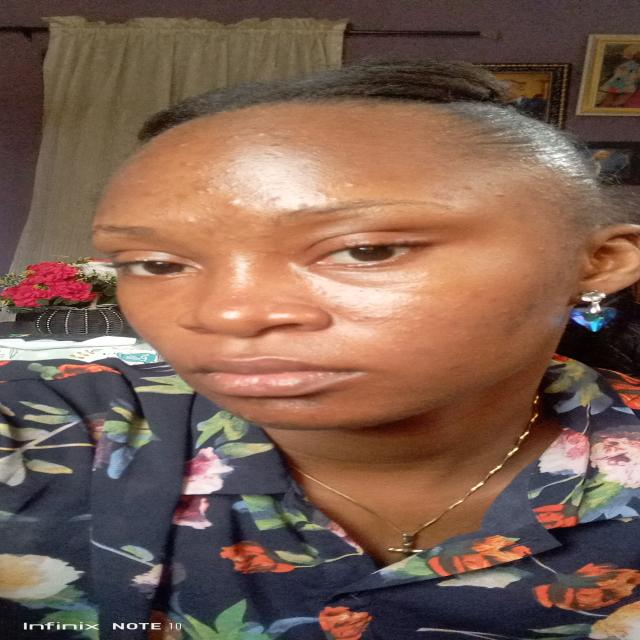Acne: (194, 170, 232, 182), (317, 287, 344, 299), (192, 186, 226, 194), (219, 134, 245, 144), (140, 188, 165, 198), (314, 191, 341, 200), (263, 196, 282, 207), (347, 314, 399, 318), (181, 161, 202, 169), (225, 197, 242, 206), (459, 184, 476, 192), (343, 181, 360, 188), (291, 203, 308, 210), (354, 288, 383, 292), (529, 247, 545, 254), (176, 141, 191, 148), (181, 217, 196, 224), (441, 364, 461, 369), (494, 309, 510, 315), (273, 134, 290, 139), (265, 248, 279, 254), (228, 158, 242, 164), (202, 205, 214, 211), (226, 252, 240, 257), (254, 132, 268, 137), (464, 335, 474, 342), (494, 192, 505, 198), (224, 235, 237, 240), (269, 143, 282, 148), (243, 262, 257, 266), (203, 159, 214, 164), (132, 180, 145, 184), (412, 326, 423, 330), (412, 318, 422, 322), (248, 413, 253, 420), (476, 286, 484, 290)
